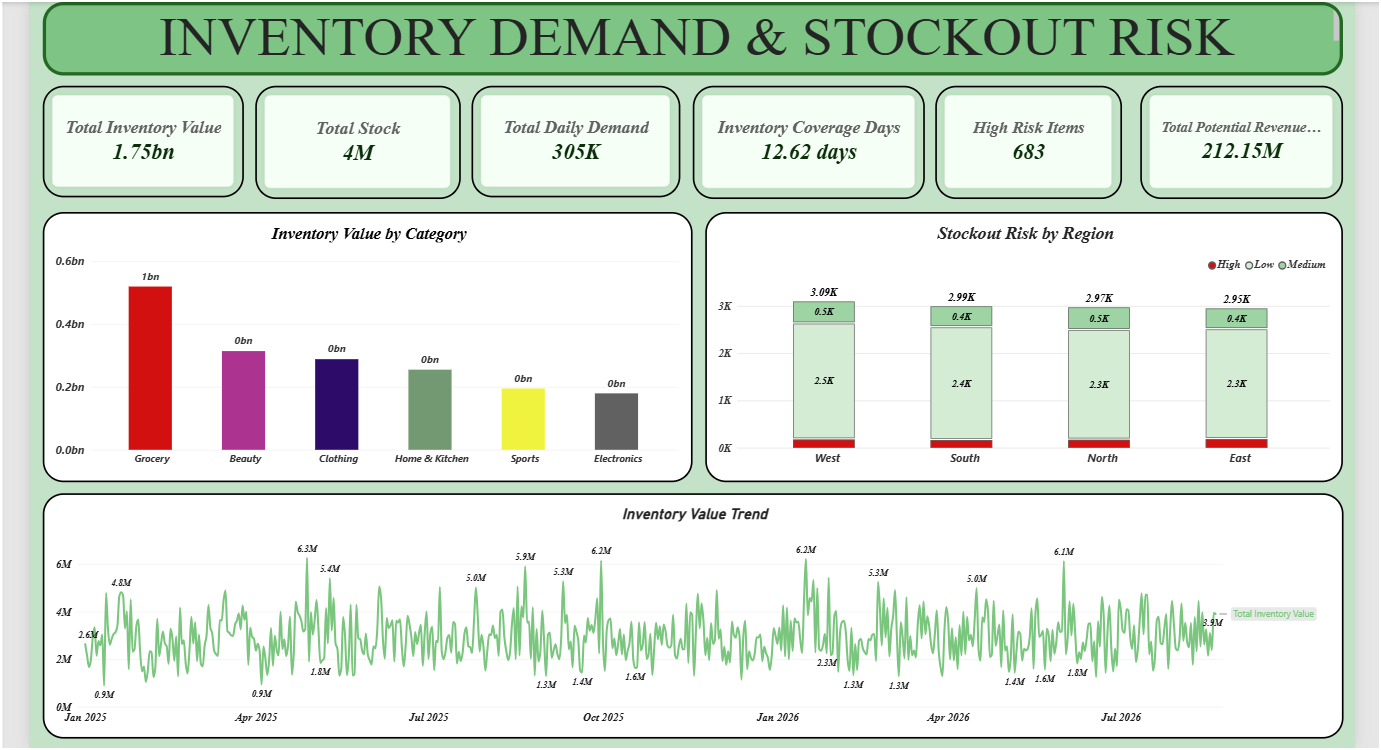

This screenshot's page, from the dashboard's own definition file:
{"tool":"powerbi","page":{"name":"🏠 Executive Overview","canvas":[1920,1080],"ordinal":0},"visuals":[{"type":"textbox","box":[19.9,0,1882,106.8],"z":0},{"type":"cardVisual","fields":{"Data":["inventory_demand_stockout_risk_dataset.Total Stock"]},"box":[327.7,121.3,297.9,163.8],"z":1000},{"type":"cardVisual","fields":{"Data":["inventory_demand_stockout_risk_dataset.Total Daily Demand"]},"box":[640.4,121.3,302.1,161.7],"z":2000},{"type":"cardVisual","fields":{"Data":["inventory_demand_stockout_risk_dataset.Total Potential Revenue Loss"]},"box":[1608.5,121.3,293.6,163.8],"z":3000},{"type":"clusteredColumnChart","title":"Inventory Value by Category","fields":{"Category":["inventory_demand_stockout_risk_dataset.category"],"Y":["Sum(inventory_demand_stockout_risk_dataset.inventory_value)"]},"box":[19.1,304.3,940.4,391.5],"z":4000},{"type":"cardVisual","fields":{"Data":["inventory_demand_stockout_risk_dataset.Total Inventory Value"]},"box":[19.1,121.3,291.5,161.7],"z":5000},{"type":"cardVisual","fields":{"Data":["inventory_demand_stockout_risk_dataset.Inventory Coverage Days"]},"box":[961.7,121.3,336.2,163.8],"z":6000},{"type":"cardVisual","fields":{"Data":["inventory_demand_stockout_risk_dataset.High Risk Items"]},"box":[1312.8,121.3,270.2,163.8],"z":7000},{"type":"columnChart","title":"Stockout Risk by Region","fields":{"Category":["inventory_demand_stockout_risk_dataset.region"],"Y":["CountNonNull(inventory_demand_stockout_risk_dataset.product_id)"],"Series":["inventory_demand_stockout_risk_dataset.stockout_risk"]},"box":[978.7,304.3,923.4,391.5],"z":8000},{"type":"lineChart","title":"Inventory Value Trend","fields":{"Y":["inventory_demand_stockout_risk_dataset.Total Inventory Value"],"Category":["inventory_demand_stockout_risk_dataset.date"]},"box":[19.1,710.6,1883,355.3],"z":9000}]}

Visuals, with their boxes in screenshot pixels (x1, y1, x2, y2):
textbox: detection(46, 0, 1338, 73)
cardVisual - inventory_demand_stockout_risk_dataset.Total Stock: detection(257, 83, 462, 196)
cardVisual - inventory_demand_stockout_risk_dataset.Total Daily Demand: detection(472, 83, 679, 194)
cardVisual - inventory_demand_stockout_risk_dataset.Total Potential Revenue Loss: detection(1136, 83, 1338, 196)
"Inventory Value by Category" clusteredColumnChart: detection(45, 209, 691, 478)
cardVisual - inventory_demand_stockout_risk_dataset.Total Inventory Value: detection(45, 83, 246, 194)
cardVisual - inventory_demand_stockout_risk_dataset.Inventory Coverage Days: detection(692, 83, 923, 196)
cardVisual - inventory_demand_stockout_risk_dataset.High Risk Items: detection(933, 83, 1119, 196)
"Stockout Risk by Region" columnChart: detection(704, 209, 1338, 478)
"Inventory Value Trend" lineChart: detection(45, 488, 1338, 732)
